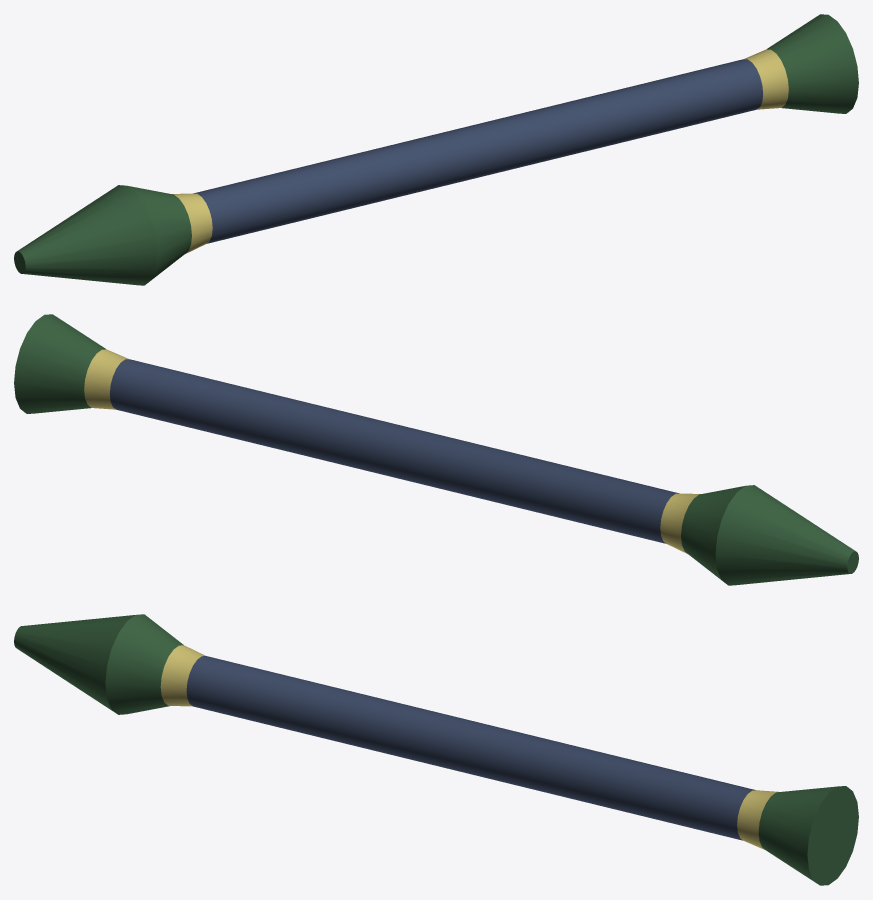
The model's file is Rocket.fbx.
3 views of the same model, one above another, from view 1: azimuth 30°, elevation 25°; view 2: azimuth 150°, elevation 25°; view 3: azimuth 330°, elevation 25° (orthographic).
Parts seen in each view (by area): view 1: Rocket; view 2: Rocket; view 3: Rocket.
Boxes of the visible parts, <box> form: Rocket: <box>14,14,858,285</box>; Rocket: <box>14,314,858,585</box>; Rocket: <box>14,614,858,885</box>.
Size of the model in its own units: 2.03 by 0.2212 by 0.2246.
